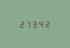four: (39, 19, 45, 27)
seven: (25, 20, 31, 28)
three: (32, 20, 38, 27)
two: (18, 20, 24, 28), (46, 19, 52, 27)
